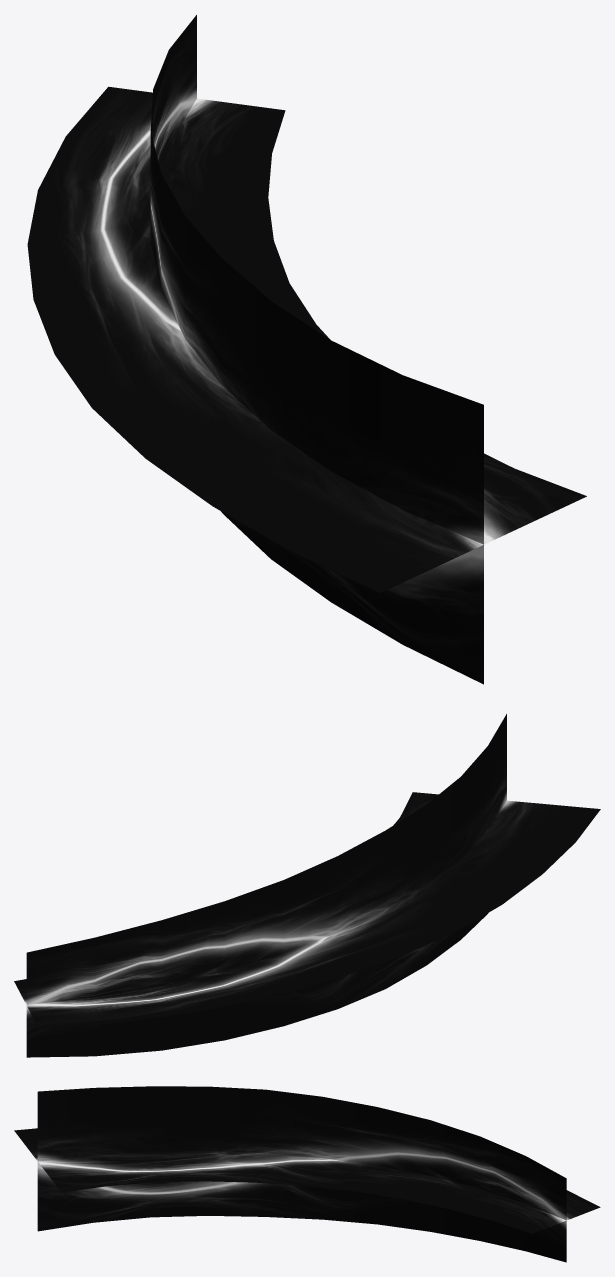
File: FX_lxf_war_luoxuan_002.FBX
3 renders of one model, top to bottom at view 1: azimuth 30°, elevation 25°; view 2: azimuth 150°, elevation 25°; view 3: azimuth 270°, elevation 25°, orthographic. The views are drawn at different scales.
Parts seen in each view (by area): view 1: Plane005; view 2: Plane005; view 3: Plane005.
Boxes of the visible parts, box(x1,y1,x2,y2) form: Plane005: box(27, 15, 586, 684); Plane005: box(14, 714, 600, 1057); Plane005: box(14, 1086, 600, 1262).
Size of the model in its own units: 18.45 by 10.68 by 40.6.
